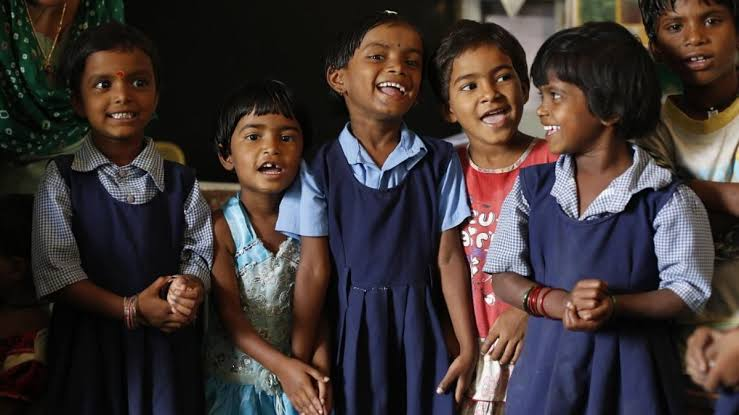student: (517, 35, 652, 159), (416, 29, 531, 143), (313, 14, 430, 121), (206, 86, 313, 194), (66, 37, 166, 140), (633, 3, 739, 87)
